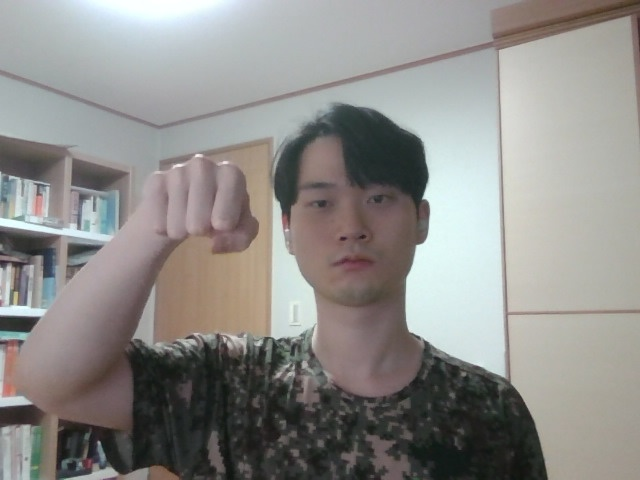yes: (126, 143, 317, 295)
